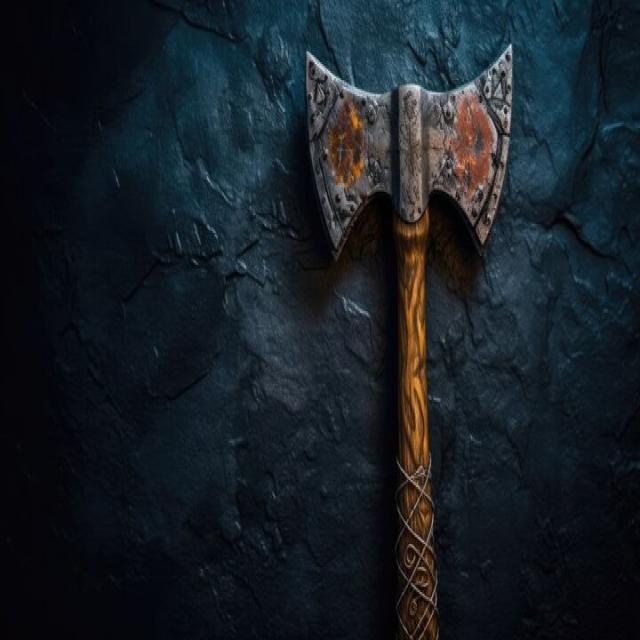Gun: (309, 44, 527, 640)
